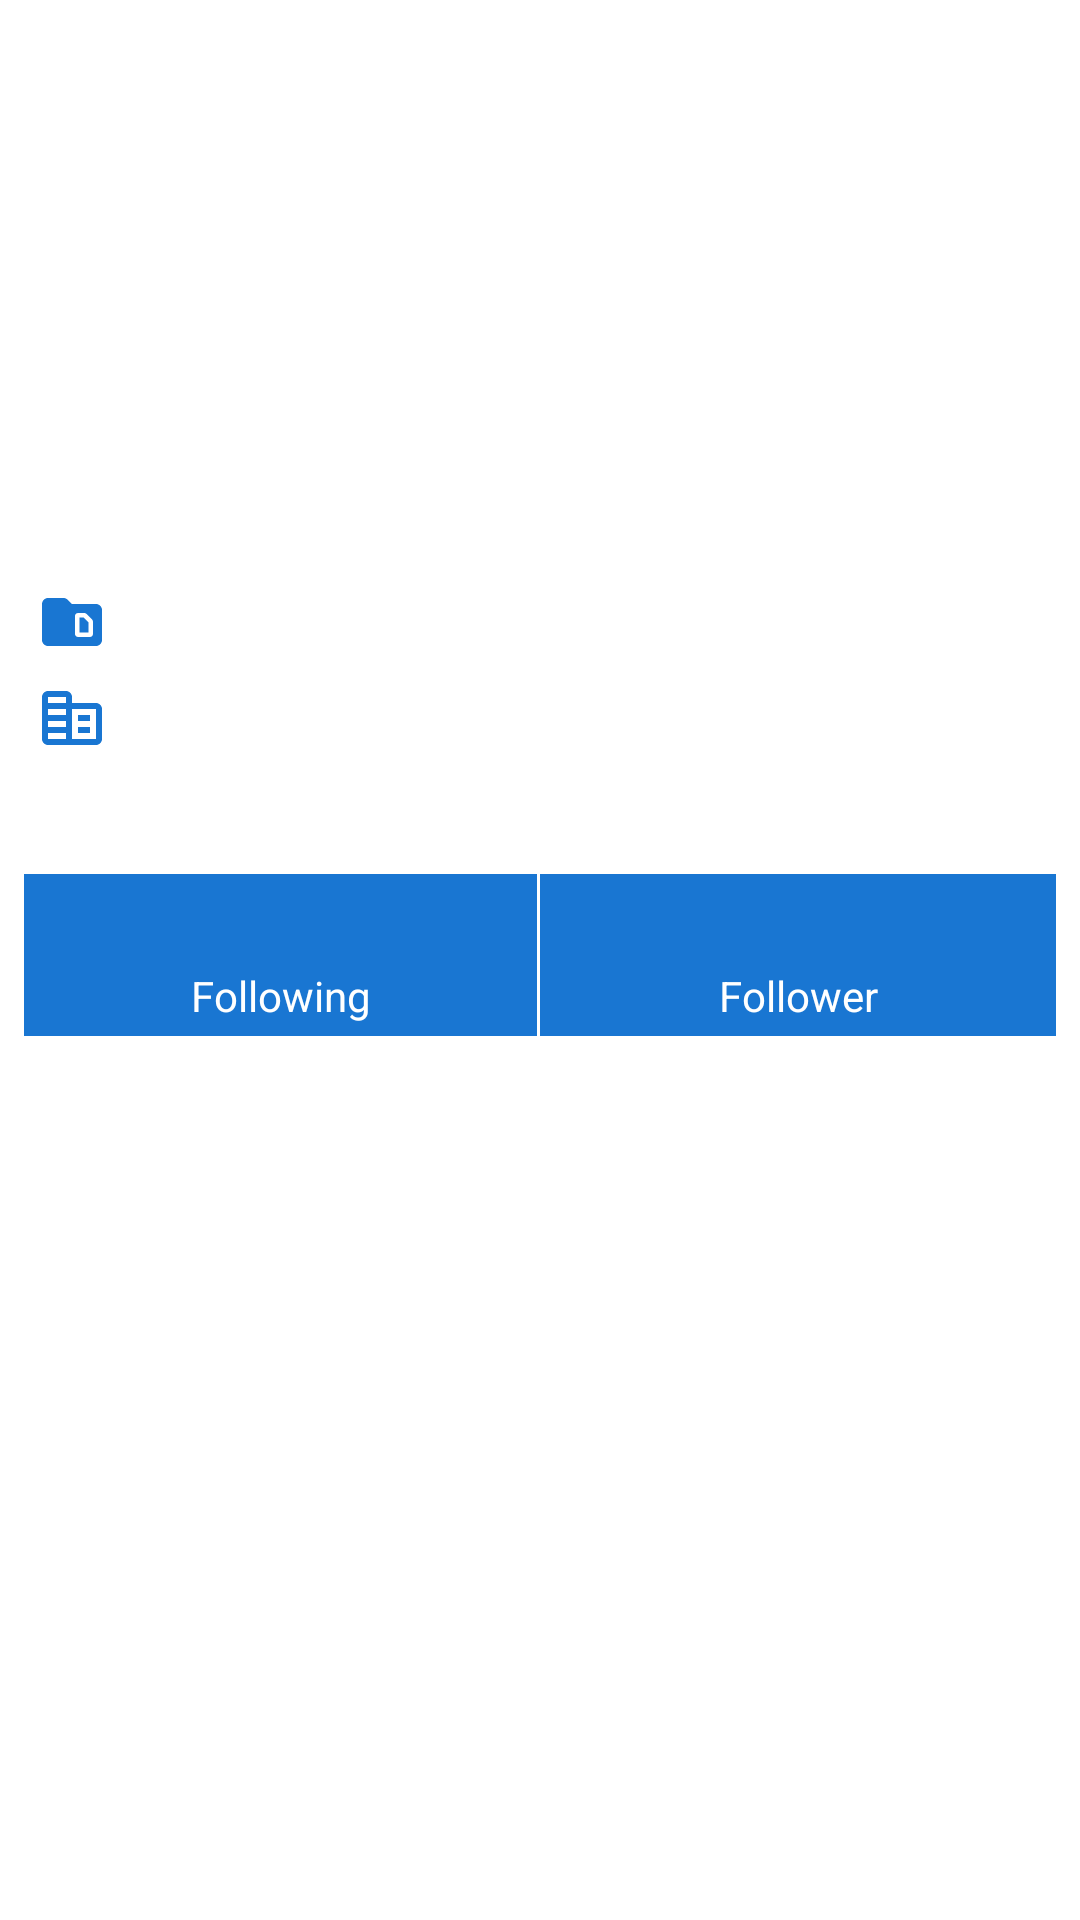

Icons on this 1080px x 1920px Android screen, each with the point to tap as point (x, y):
company: point (72, 718)
repo: point (72, 622)
